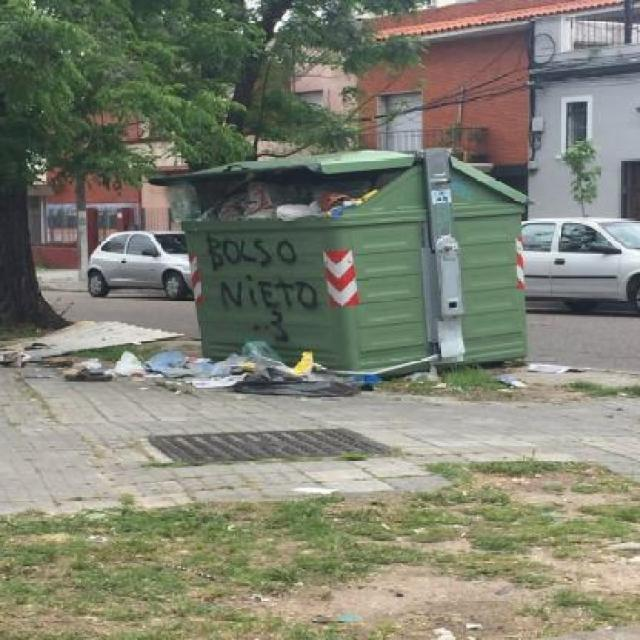garbage: (60, 345, 372, 401), (26, 314, 170, 358), (169, 185, 340, 214), (497, 357, 572, 400), (0, 340, 56, 367)
